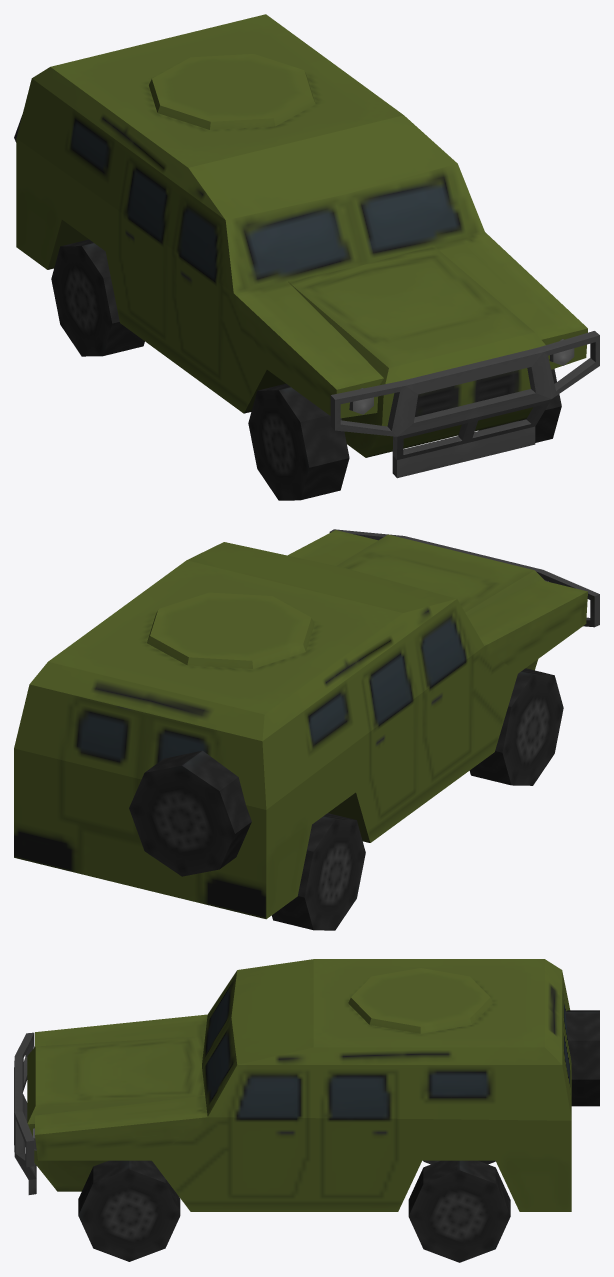
The model's file is LPTiger.fbx.
The picture shows the model from 3 angles, top to bottom: view 1: azimuth 30°, elevation 25°; view 2: azimuth 150°, elevation 25°; view 3: azimuth 270°, elevation 25°; orthographic projection. The views are drawn at different scales.
Parts seen in each view (by area): view 1: Body, Tire, Tire3, Tire2; view 2: Body, Tire3, Tire; view 3: Body, Tire4, Tire2.
Boxes of the visible parts, <box> form: Body: <box>14,14,599,478</box>; Tire: <box>248,383,349,500</box>; Tire3: <box>51,239,144,356</box>; Tire2: <box>478,369,561,442</box>; Body: <box>14,529,599,919</box>; Tire3: <box>272,813,365,930</box>; Tire: <box>469,668,563,785</box>; Body: <box>14,959,599,1211</box>; Tire4: <box>408,1160,510,1262</box>; Tire2: <box>78,1160,180,1261</box>.
Bounding box in the file's own units: 21.69 × 19.92 × 49.58.
